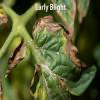Tomato Early blight leaf: (13, 17, 78, 98)
